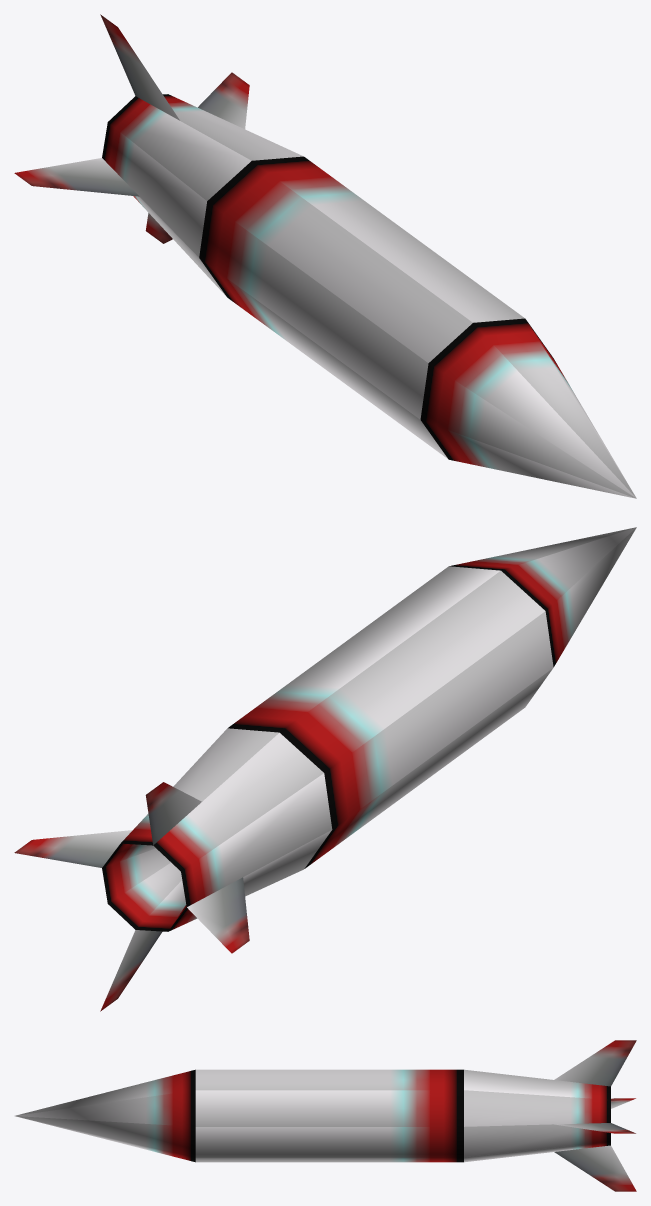
The model's file is Rocket.obj.
The picture shows the model from 3 angles, top to bottom: view 1: azimuth 30°, elevation 25°; view 2: azimuth 150°, elevation 25°; view 3: azimuth 270°, elevation 25°; orthographic projection. The views are drawn at different scales.
Parts seen in each view (by area): view 1: weapon_rocket_Mesh_0253.001; view 2: weapon_rocket_Mesh_0253.001; view 3: weapon_rocket_Mesh_0253.001.
Part boxes in pixels (left/top/right/bottom): weapon_rocket_Mesh_0253.001: left=14, top=14, right=636, bottom=498; weapon_rocket_Mesh_0253.001: left=14, top=527, right=636, bottom=1011; weapon_rocket_Mesh_0253.001: left=15, top=1040, right=636, bottom=1191.
Size of the model in its own units: 0.3314 by 0.3314 by 1.35.
1 material, 1 textured.
